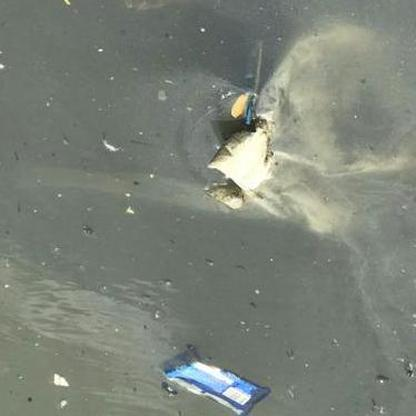plastic bag: (206, 17, 411, 220), (161, 345, 272, 416)
